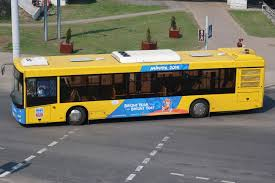bus: (10, 47, 264, 127)
